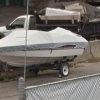Boat: (3, 9, 93, 78)
